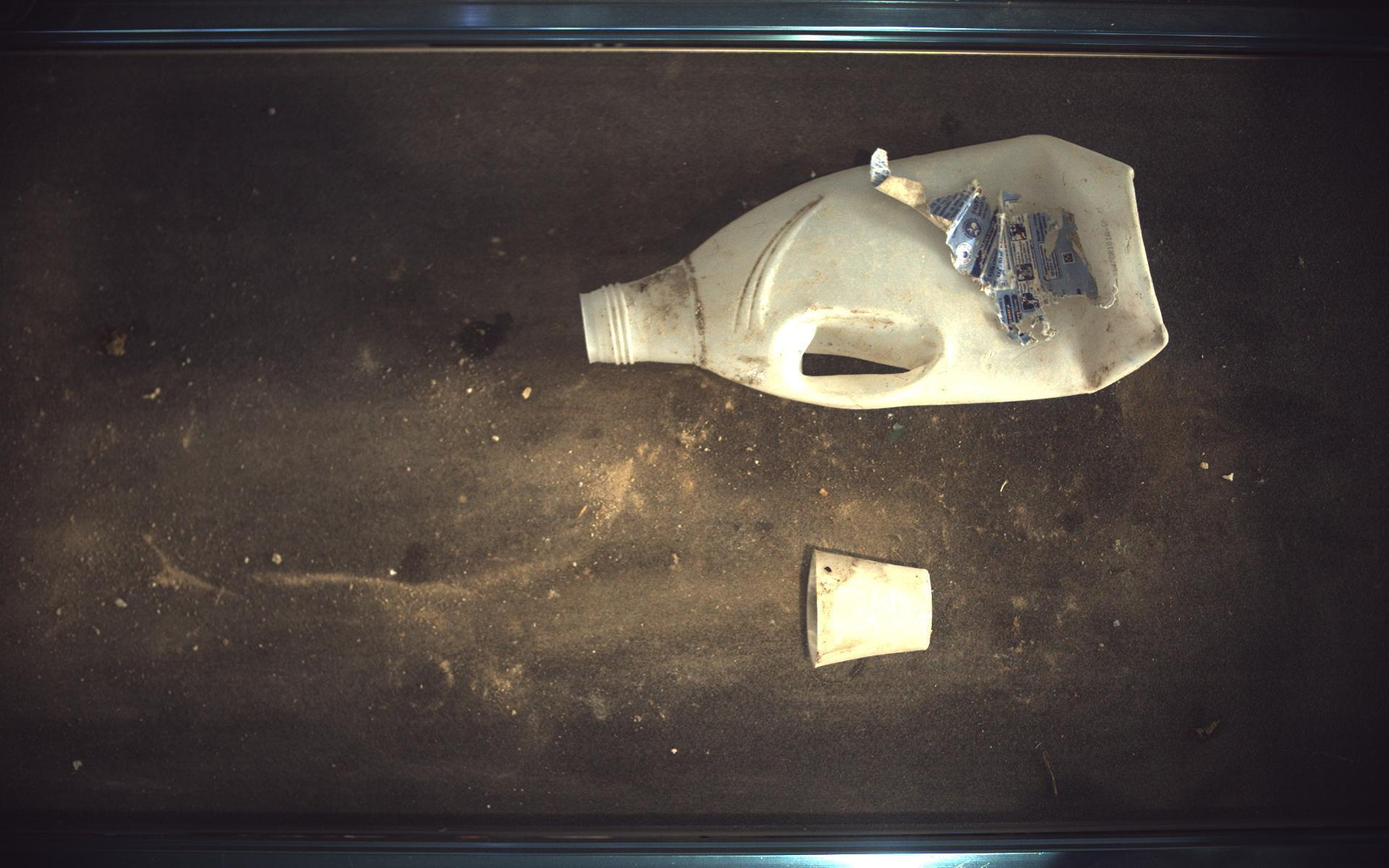general_w: (808, 550, 934, 668)
